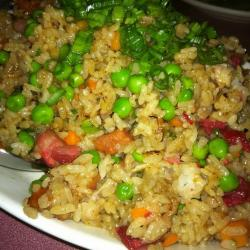rice: (63, 101, 220, 225), (9, 5, 140, 123)
